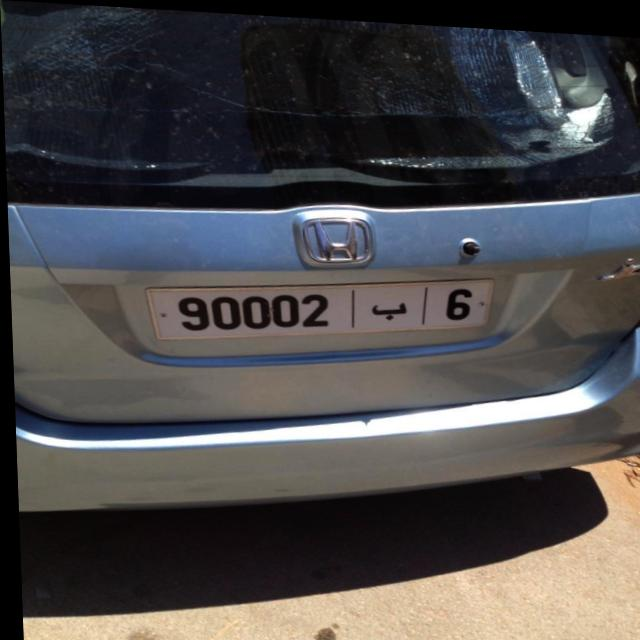License-Plate: (145, 273, 491, 338)
